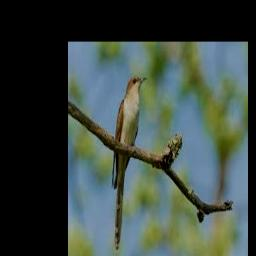Cuckoo: (111, 76, 148, 250)
